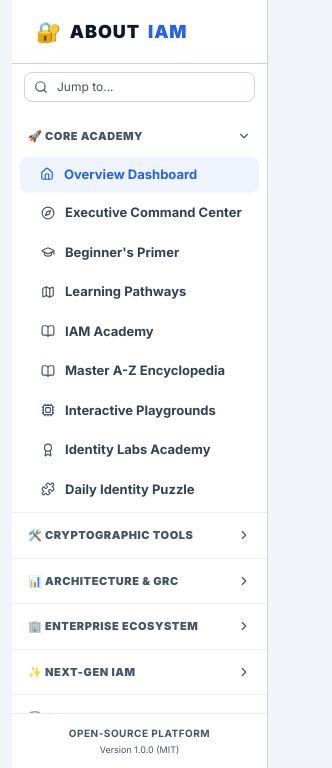
Sidebar › renders a sub-group header for a large group split into sub-groups
The width and height of the screenshot is (332, 768).
Click the button "🏢 Enterprise Ecosystem": (140, 626) top-left (12, 608), bottom-right (267, 644)
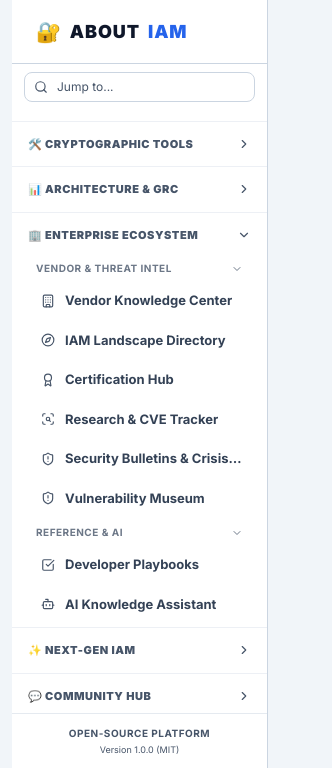
Expected: the text "Vendor & Threat Intel" is shown, top-left (36, 261), bottom-right (172, 276)
Expected: the text "Reference & AI" is shown, top-left (36, 525), bottom-right (123, 540)
